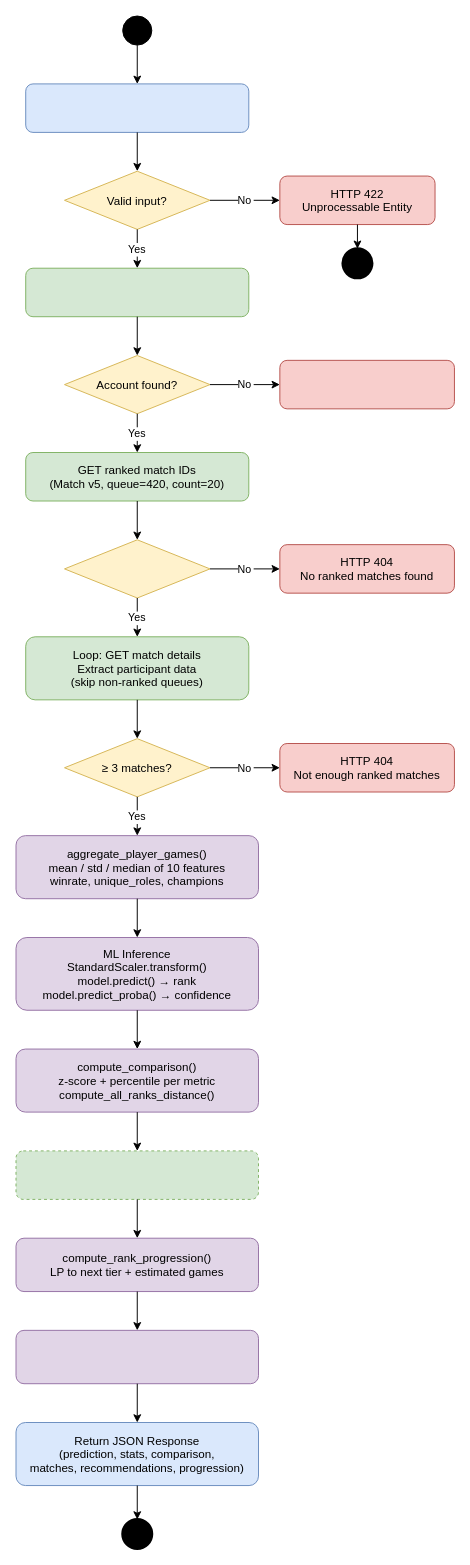
Some shapes in this 470 by 1565 pixel diagram are drawn without their labels. Each missing label, with the centre of its shape:
"Any matches?" goes at point (137, 568).
"GET account by Riot ID (Riot Account v1)" goes at point (137, 292).
"GET real rank (League v4) [optional, non-blocking]" goes at point (137, 1174).
"HTTP 404 Player not found HTTP 403 API key invalid" goes at point (366, 384).
"recommend_champions() cosine_similarity(player_vec, champ_profiles)" goes at point (137, 1356).
"User enters Riot ID + Tag + Region" goes at point (137, 107).
